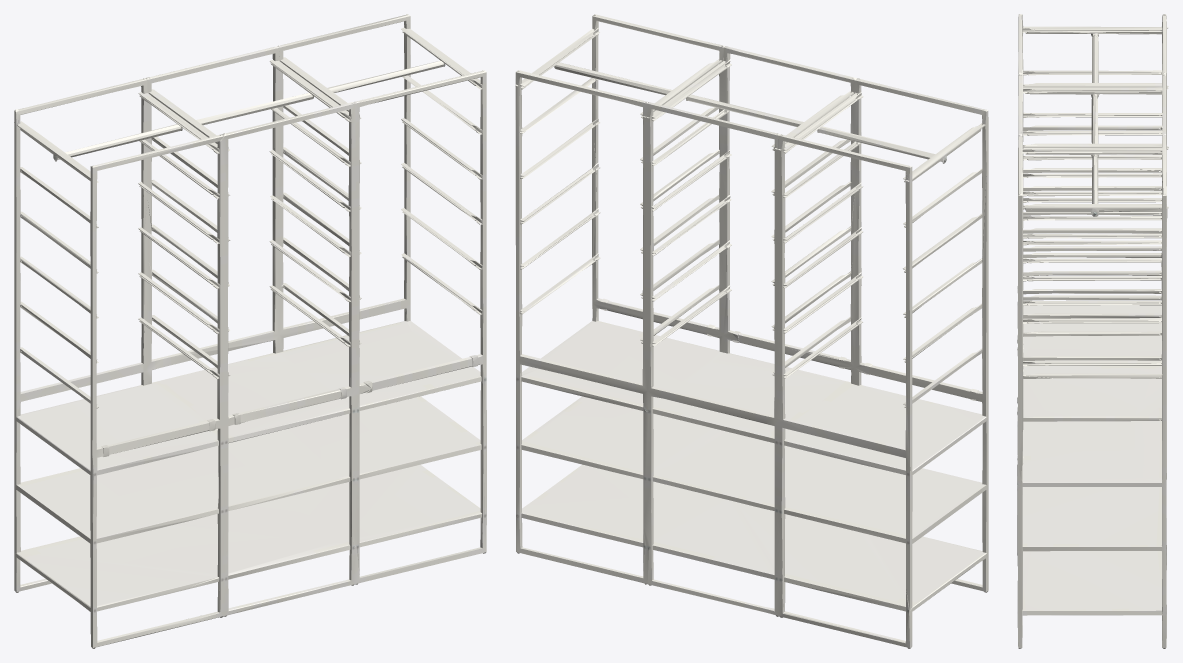
Rendered from jonaxel_kombinacja_szafy_09306204.glb.
3 renders of one model, left to right at view 1: azimuth 30°, elevation 25°; view 2: azimuth 150°, elevation 25°; view 3: azimuth 270°, elevation 25°, orthographic. The views are drawn at different scales.
Visible parts, largest first — view 1: jonaxel_kombinacja_szafy_09306204; view 2: jonaxel_kombinacja_szafy_09306204; view 3: jonaxel_kombinacja_szafy_09306204.
Part boxes in pixels (left/top/right/bottom): jonaxel_kombinacja_szafy_09306204: left=14, top=14, right=486, bottom=648; jonaxel_kombinacja_szafy_09306204: left=515, top=14, right=988, bottom=648; jonaxel_kombinacja_szafy_09306204: left=1017, top=14, right=1168, bottom=648.
Size of the model in its own units: 1.48 by 1.74 by 0.5226.
1 material, 1 textured.
